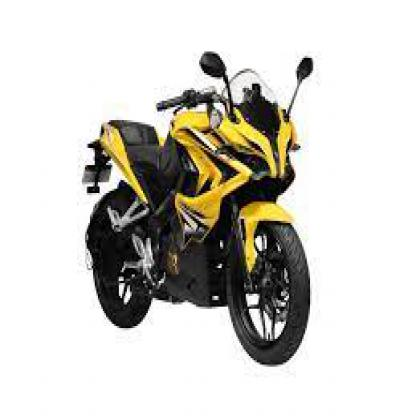bike: (80, 43, 314, 362)
